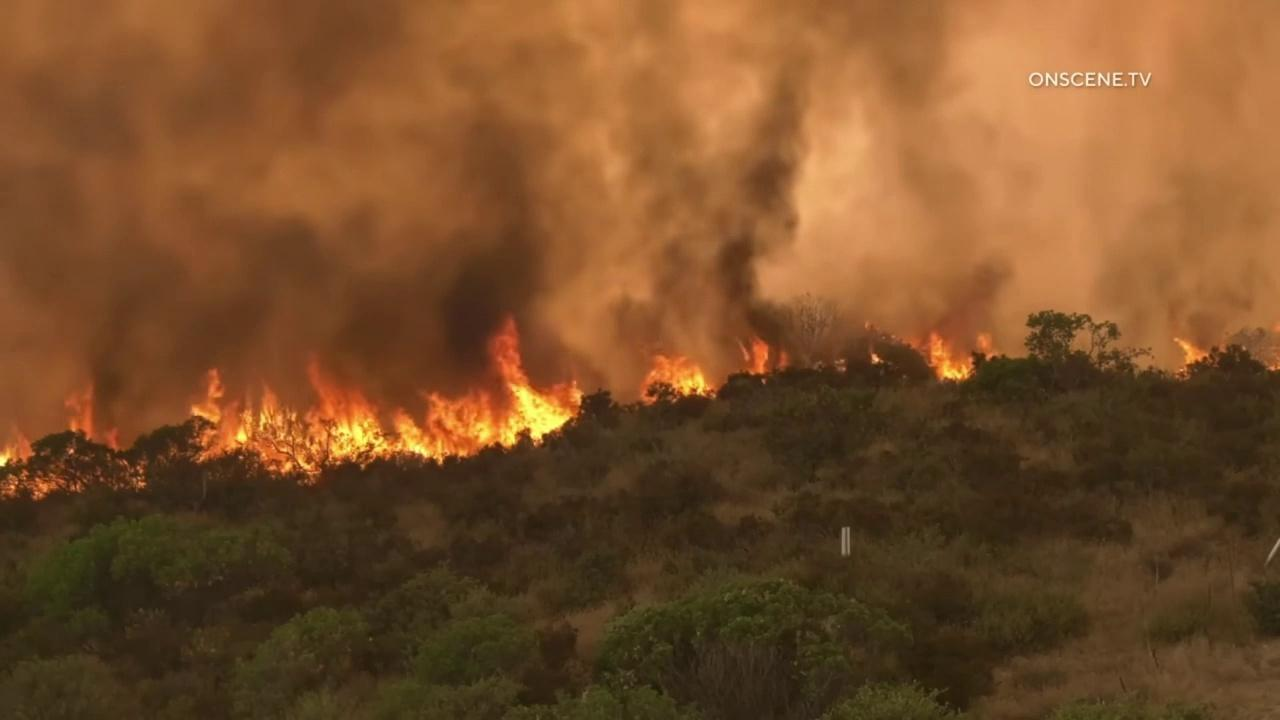fire: (0, 313, 585, 502), (639, 353, 719, 407), (898, 328, 976, 383), (736, 335, 792, 385), (1173, 336, 1209, 382), (978, 333, 997, 361), (832, 358, 847, 372), (870, 353, 885, 365), (1267, 362, 1280, 372), (1270, 322, 1280, 333), (863, 320, 870, 329), (1111, 359, 1117, 365)
smoke: (0, 0, 1280, 456)
